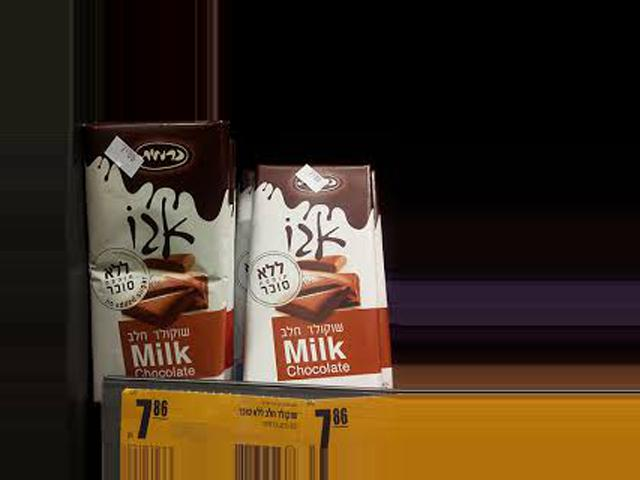chocolate: (244, 156, 404, 416)
